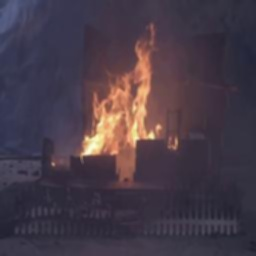fire: (75, 22, 170, 186)
